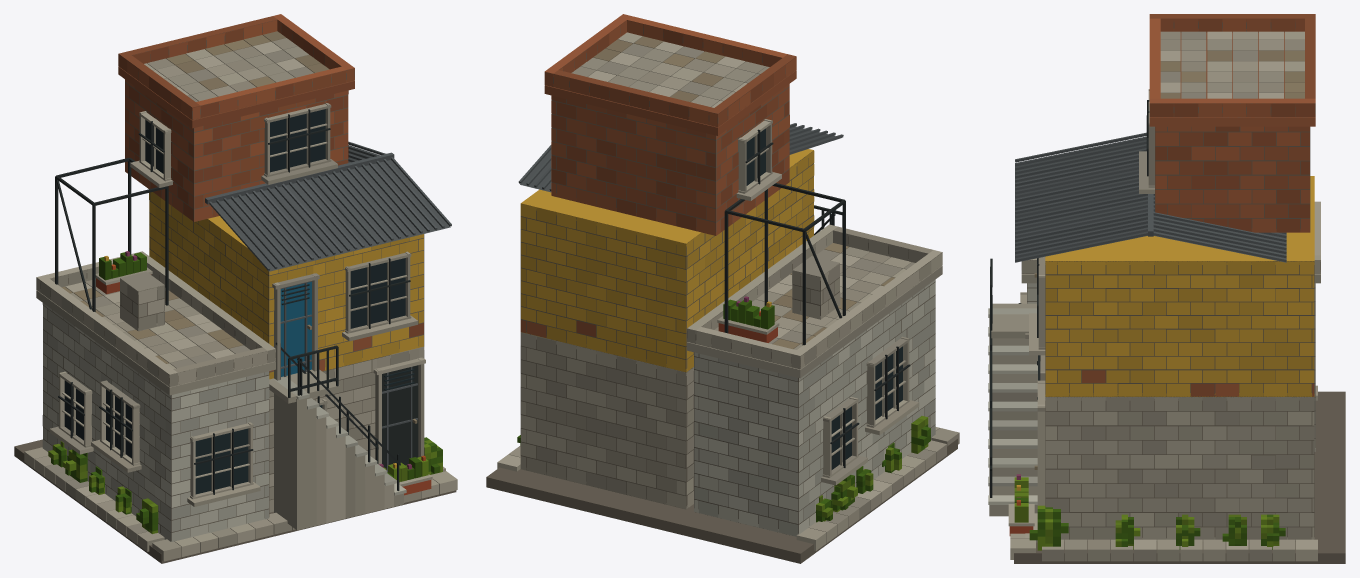
The model's file is SM_Mapa_063.fbx.
The picture shows the model from 3 angles, left to right: view 1: azimuth 30°, elevation 25°; view 2: azimuth 150°, elevation 25°; view 3: azimuth 270°, elevation 25°; orthographic projection. The views are drawn at different scales.
Parts seen in each view (by area): view 1: SM_Mapa_063; view 2: SM_Mapa_063; view 3: SM_Mapa_063.
Boxes of the visible parts, bbox=[...] form: SM_Mapa_063: bbox=[14, 14, 457, 563]; SM_Mapa_063: bbox=[486, 14, 959, 563]; SM_Mapa_063: bbox=[988, 14, 1345, 563].
Size of the model in its own units: 8 by 7.38 by 9.98.
